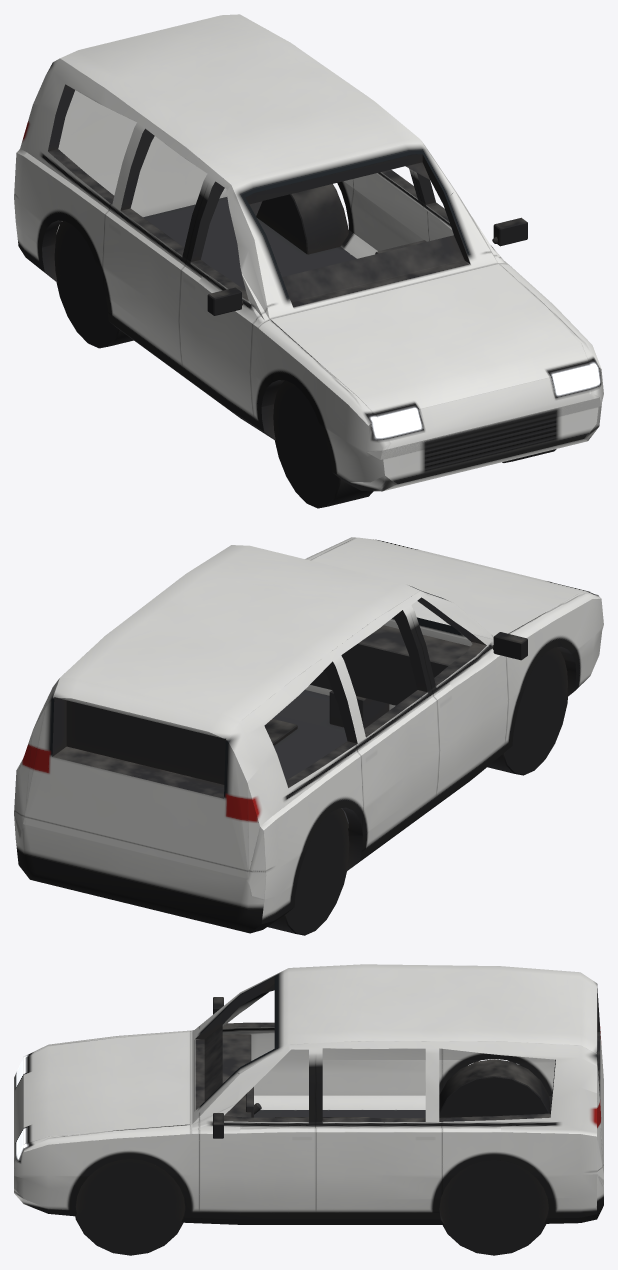
The model's file is CarBody.fbx.
3 renders of one model, top to bottom at view 1: azimuth 30°, elevation 25°; view 2: azimuth 150°, elevation 25°; view 3: azimuth 270°, elevation 25°, orthographic. The views are drawn at different scales.
Visible parts, largest first — view 1: CarBody_LOD0; view 2: CarBody_LOD0; view 3: CarBody_LOD0.
Part boxes in pixels (left/top/right/bottom): CarBody_LOD0: left=14, top=14, right=603, bottom=508; CarBody_LOD0: left=14, top=537, right=603, bottom=935; CarBody_LOD0: left=14, top=964, right=603, bottom=1255.
Size of what is drawn, in the model's own units: 2.2 by 1.69 by 4.3.
1 material, 1 textured.
